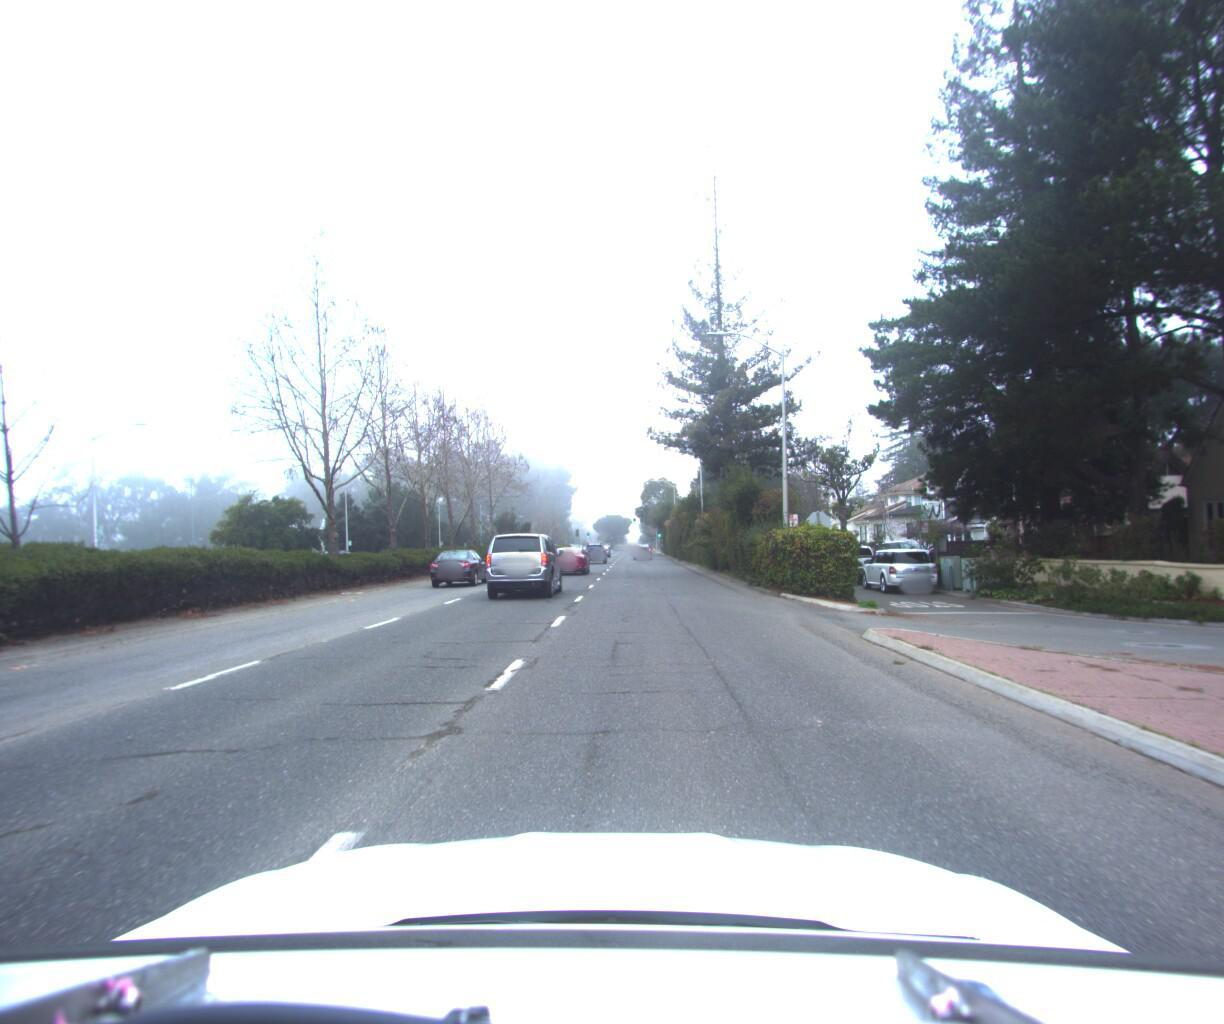car: (475, 525, 566, 600), (850, 538, 943, 589), (819, 537, 895, 579), (425, 543, 493, 585), (546, 539, 592, 571), (583, 536, 608, 558), (632, 533, 653, 553)
